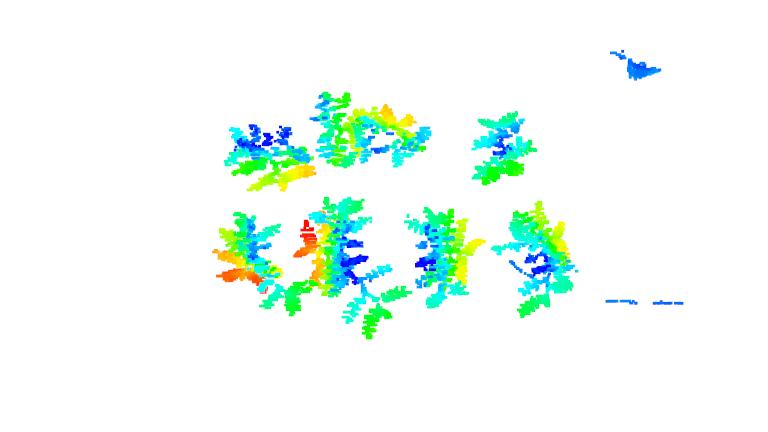chickpea: (292, 193, 408, 341), (503, 195, 575, 317), (408, 205, 485, 307), (214, 207, 285, 310), (218, 118, 314, 190), (469, 110, 537, 189), (311, 87, 372, 170), (364, 103, 436, 166)
